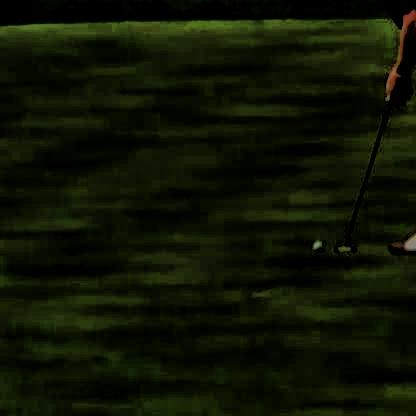golfball: (308, 237, 319, 248)
